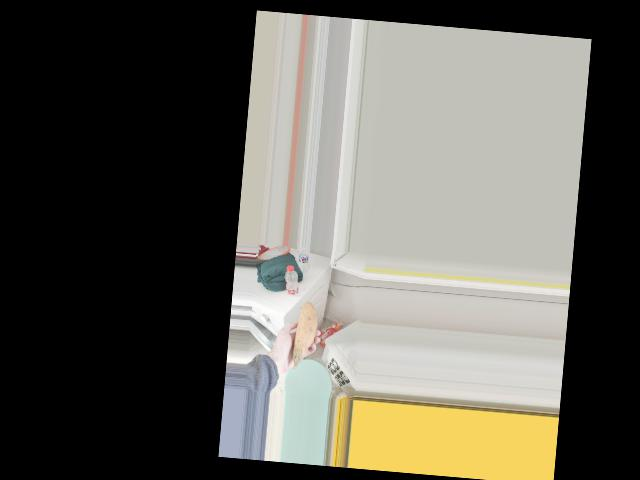sweet_potato: (290, 307, 318, 363)
